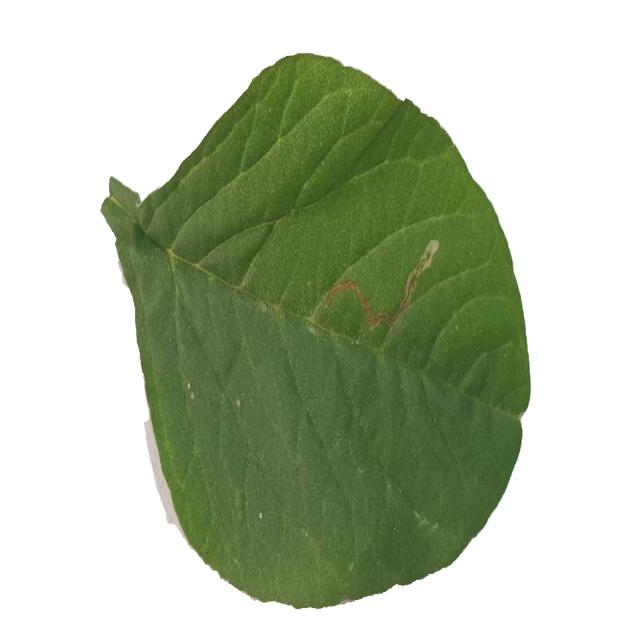Medicinal-Arive Dantu: (102, 52, 530, 610)
